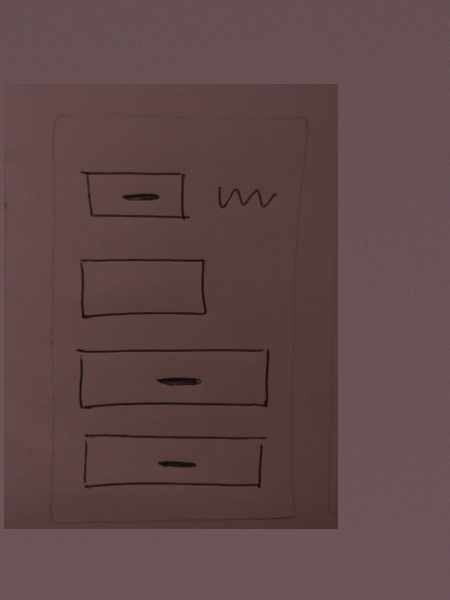button: (71, 344, 275, 417), (75, 429, 275, 494), (78, 166, 199, 228)
text: (215, 180, 278, 219)
text_input: (76, 253, 211, 323)
